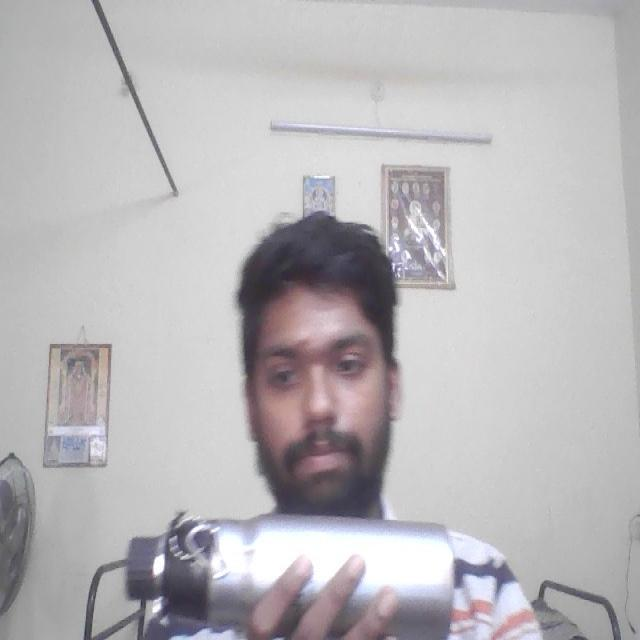Drinking: (121, 503, 473, 640)
